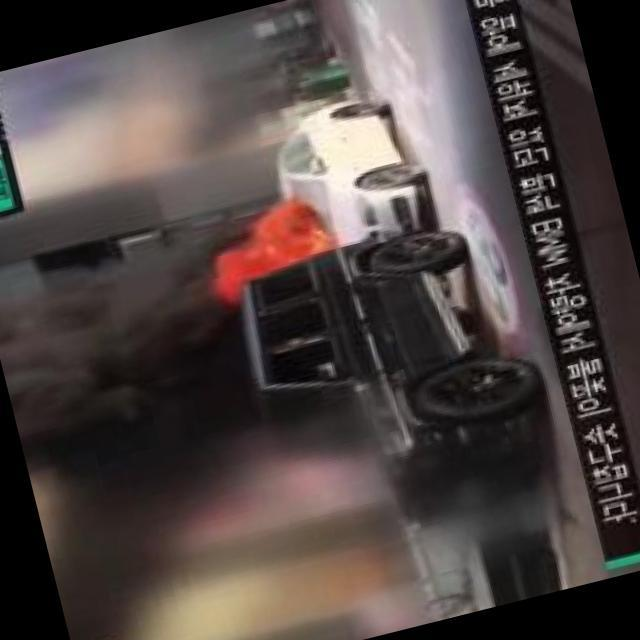Fire: (202, 212, 333, 308)
